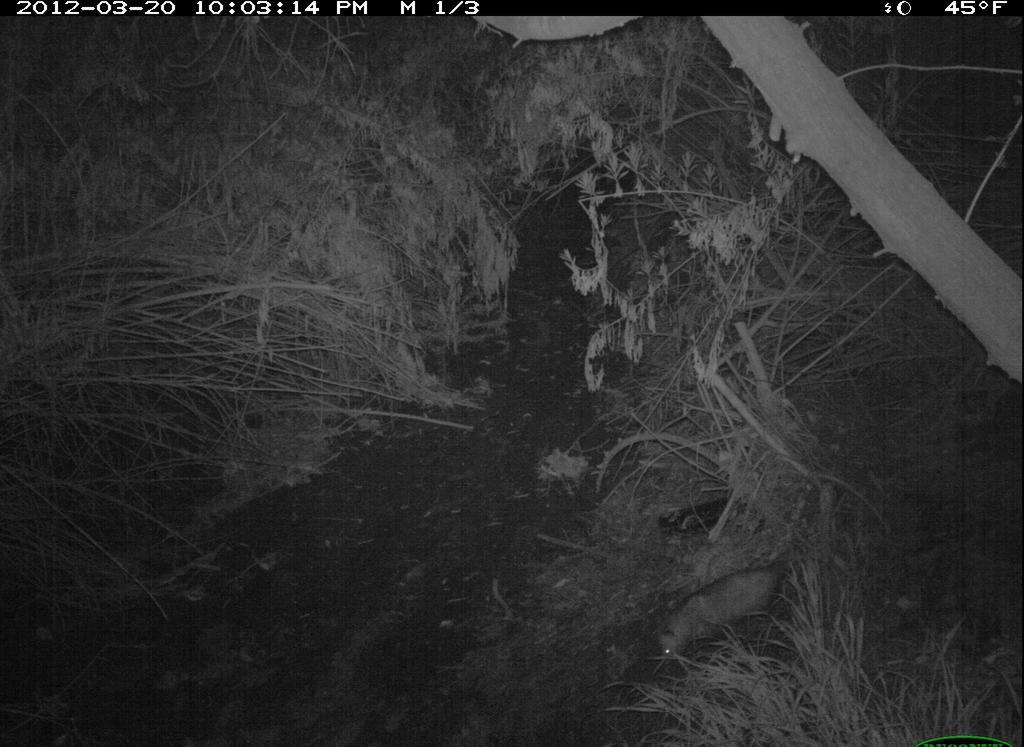opossum: (637, 548, 809, 671)
